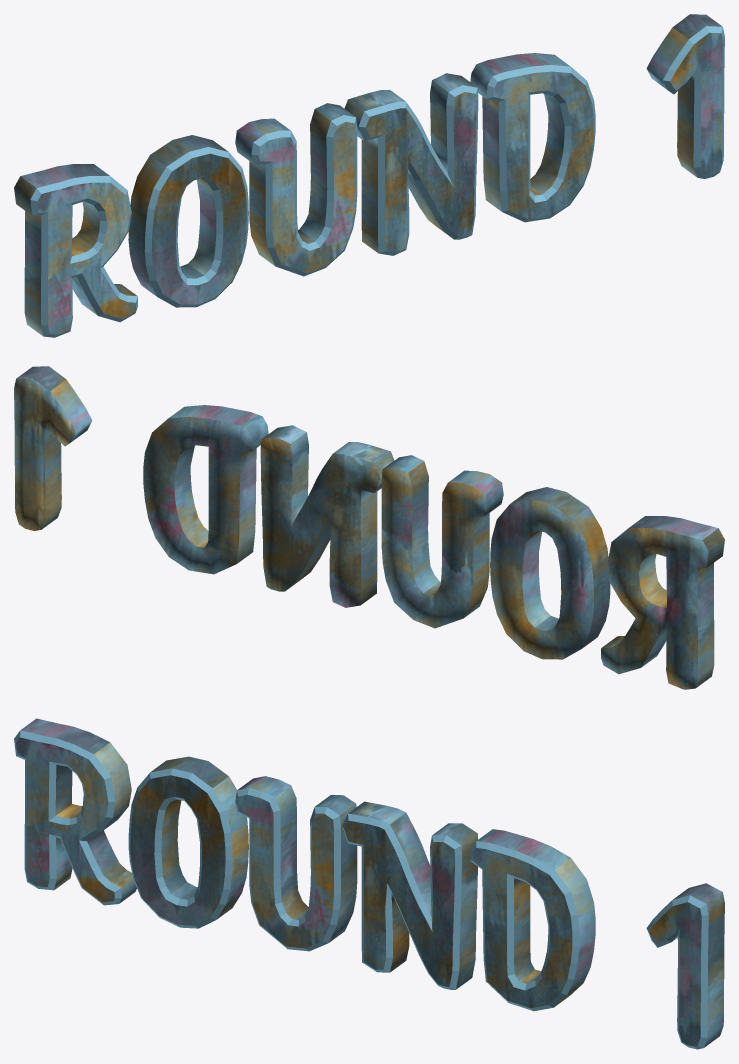
Rendered from Round01.glb.
3 renders of one model, top to bottom at view 1: azimuth 30°, elevation 25°; view 2: azimuth 150°, elevation 25°; view 3: azimuth 330°, elevation 25°, orthographic.
Visible parts, largest first — view 1: Round01; view 2: Round01; view 3: Round01.
Part boxes in pixels (x1=…): Round01: x1=14, y1=14, x2=724, y2=337; Round01: x1=14, y1=366, x2=724, y2=689; Round01: x1=14, y1=718, x2=724, y2=1049.
Bounding box in the file's own units: 8.5 × 1.87 × 0.4002.
1 material, 1 textured.
